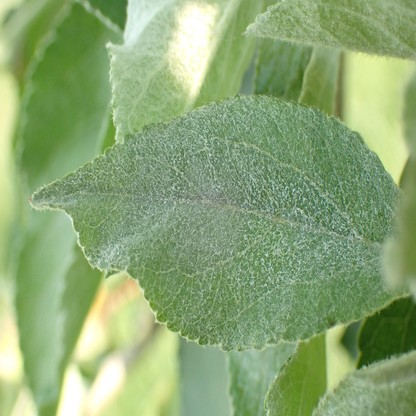powdery_mildew: (29, 93, 416, 354), (105, 1, 257, 139), (240, 1, 415, 60), (313, 352, 416, 416), (229, 344, 294, 416)
